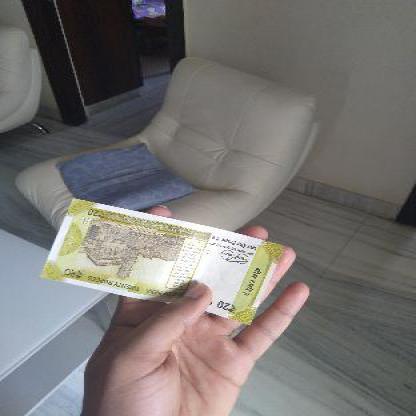New20Back: (35, 195, 269, 319)
